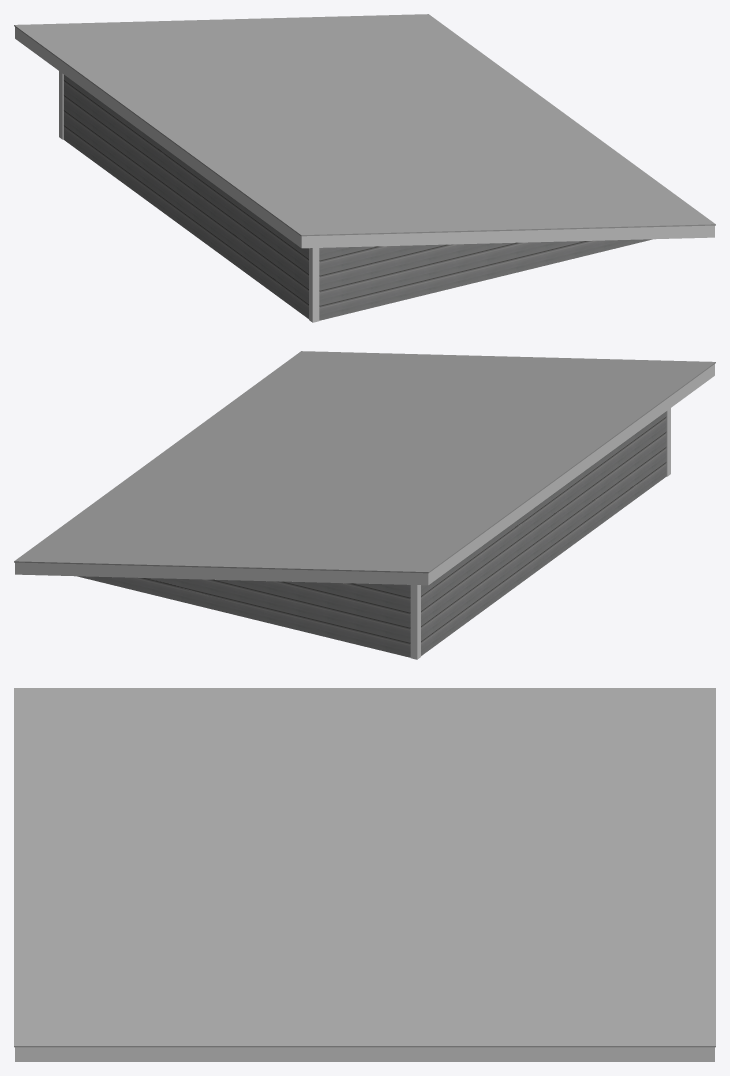
File: slant.glb
3 renders of one model, top to bottom at view 1: azimuth 30°, elevation 25°; view 2: azimuth 150°, elevation 25°; view 3: azimuth 270°, elevation 25°, orthographic. The views are drawn at different scales.
Parts seen in each view (by area): view 1: Roof_Top_2, Roof_exterior, Roof_Siding_2, Vertical_Trim_2; view 2: Roof_Top_2, Roof_exterior, Roof_Siding_2, Vertical_Trim_2; view 3: Roof_Top_2, Roof_Siding_2.
Boxes of the visible parts, x1,y1,x2,y2 form: Roof_Top_2: (14,14,715,236); Roof_exterior: (63,74,652,320); Roof_Siding_2: (15,27,714,248); Vertical_Trim_2: (59,71,319,322); Roof_Top_2: (14,351,715,573); Roof_exterior: (77,411,666,657); Roof_Siding_2: (15,364,714,585); Vertical_Trim_2: (410,408,670,659); Roof_Top_2: (14,688,715,1047); Roof_Siding_2: (15,1047,714,1061).
Size of the model in its own units: 7.12 by 1.75 by 8.53.
Materials: 7 (2 with a texture image).
